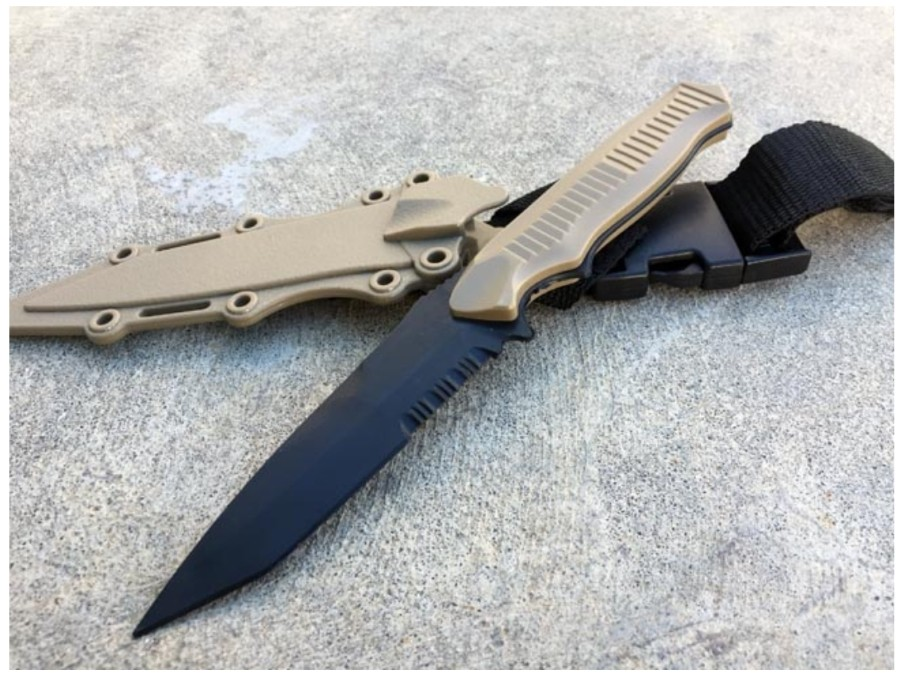knife: (124, 246, 540, 646)
